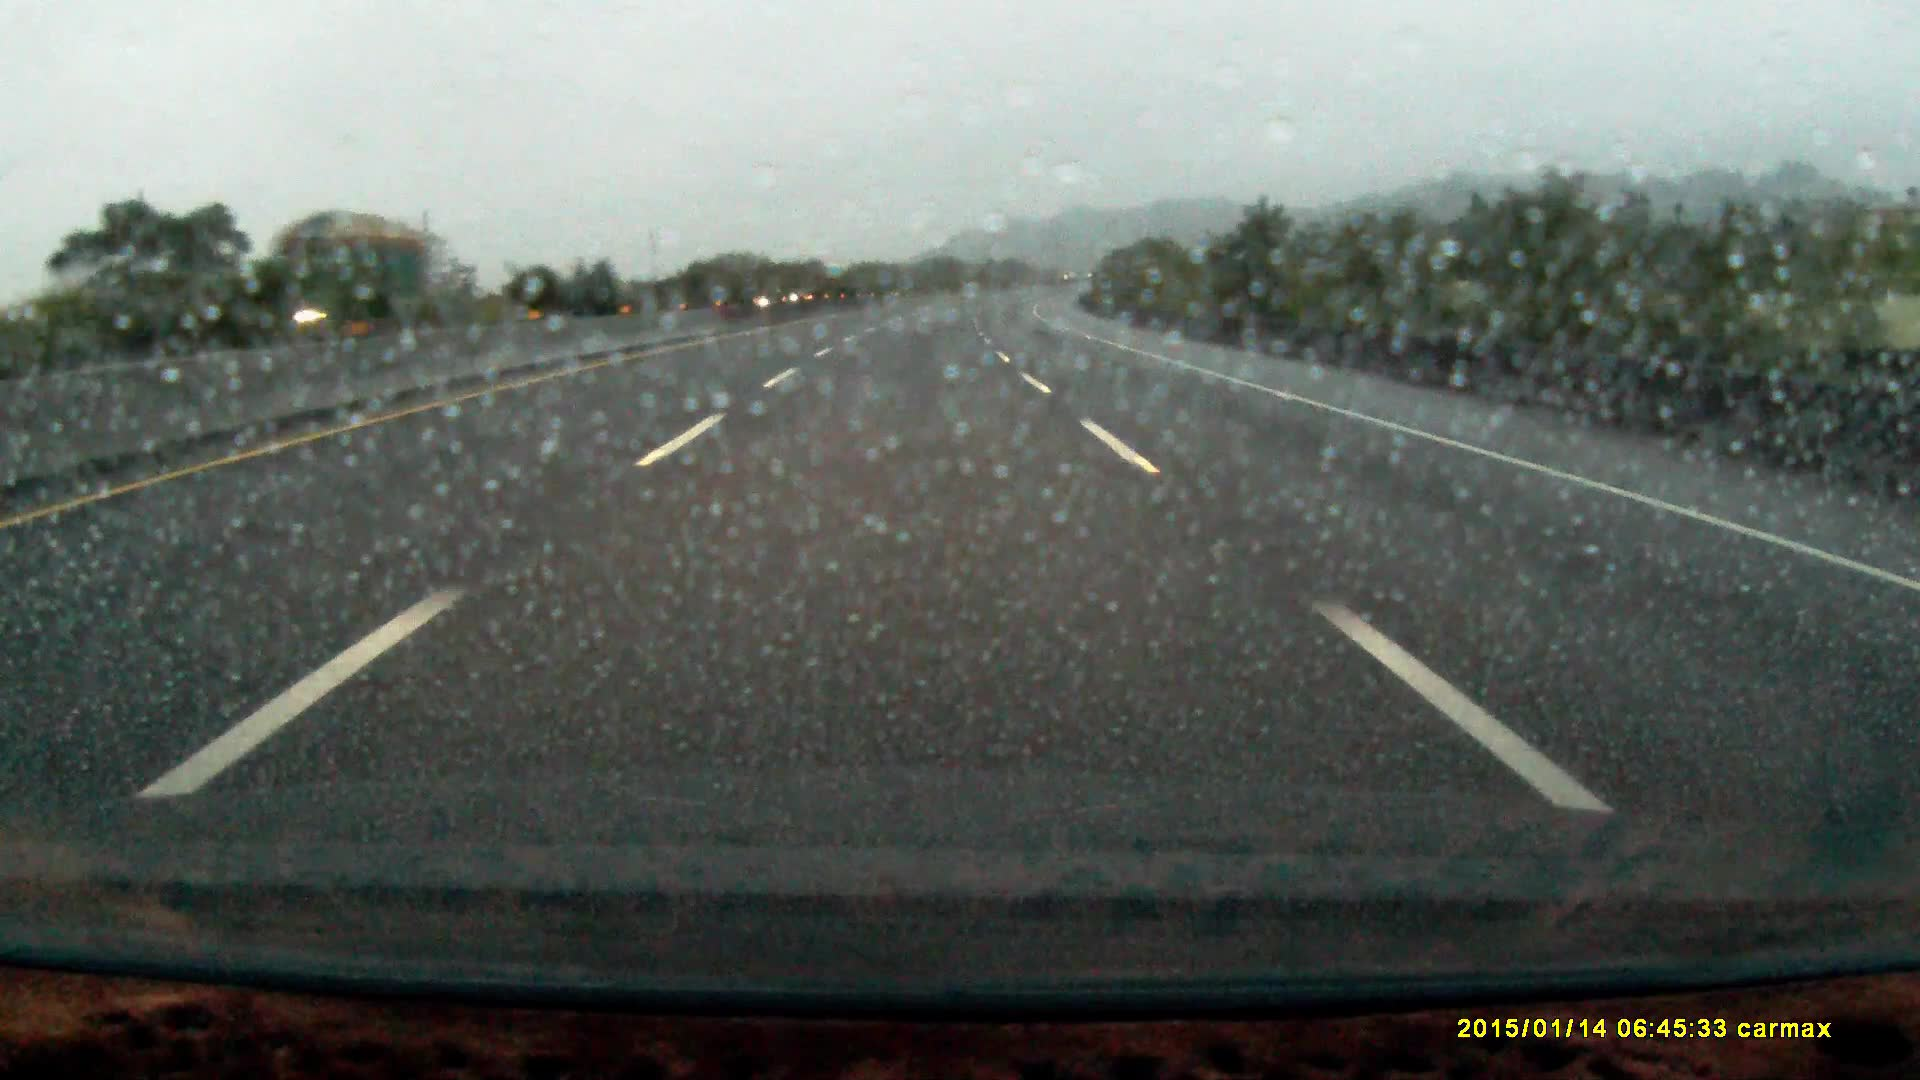vehicle: (247, 211, 426, 340)
